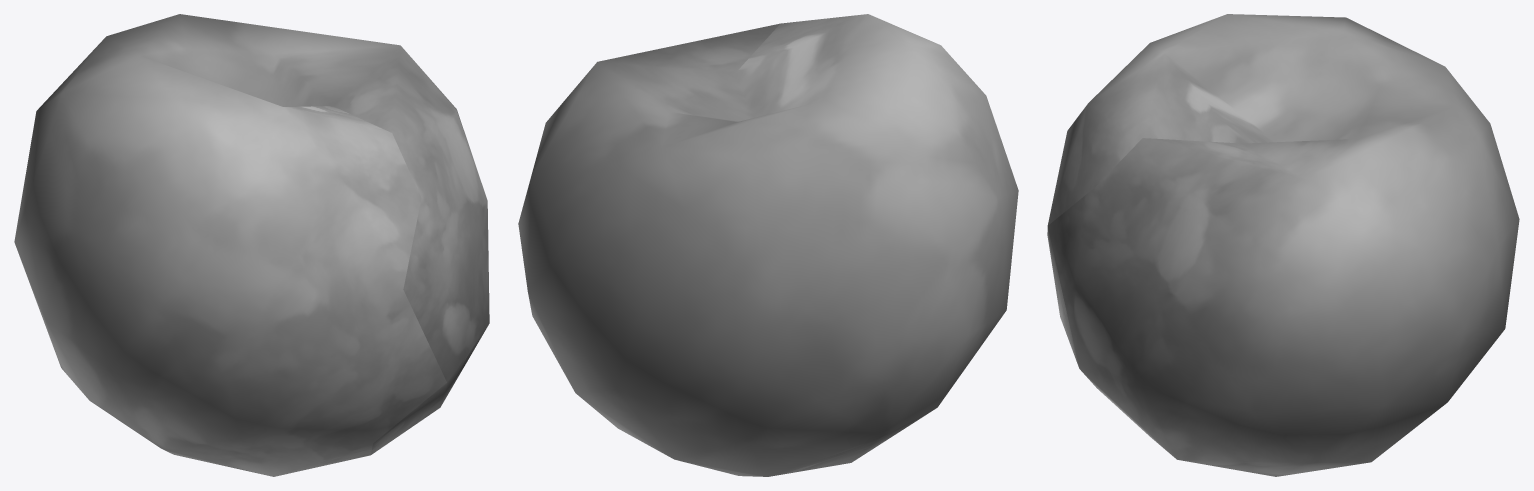
Rendered from SM_Apple_01c.fbx.
3 renders of one model, left to right at view 1: azimuth 30°, elevation 25°; view 2: azimuth 150°, elevation 25°; view 3: azimuth 270°, elevation 25°, orthographic. The views are drawn at different scales.
Parts seen in each view (by area): view 1: SM_Apple_01c_LOD0; view 2: SM_Apple_01c_LOD0; view 3: SM_Apple_01c_LOD0.
Part boxes in pixels (bbox=[...]): SM_Apple_01c_LOD0: bbox=[14, 14, 489, 476]; SM_Apple_01c_LOD0: bbox=[518, 14, 1018, 476]; SM_Apple_01c_LOD0: bbox=[1047, 14, 1519, 476].
Size of the model in its own units: 13.07 by 13.44 by 12.1.
